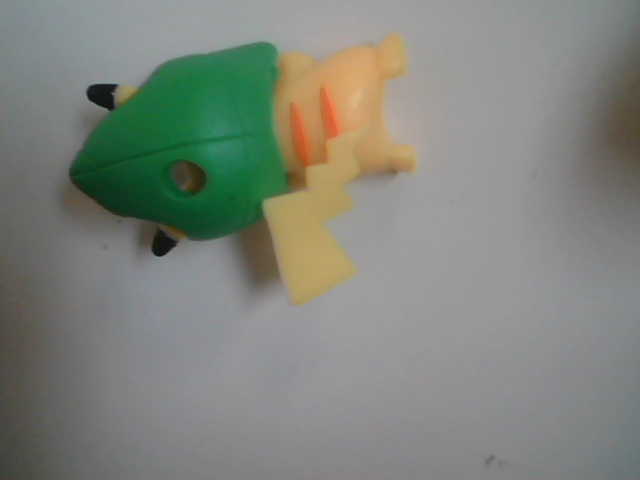pikachu: (59, 17, 432, 385)
